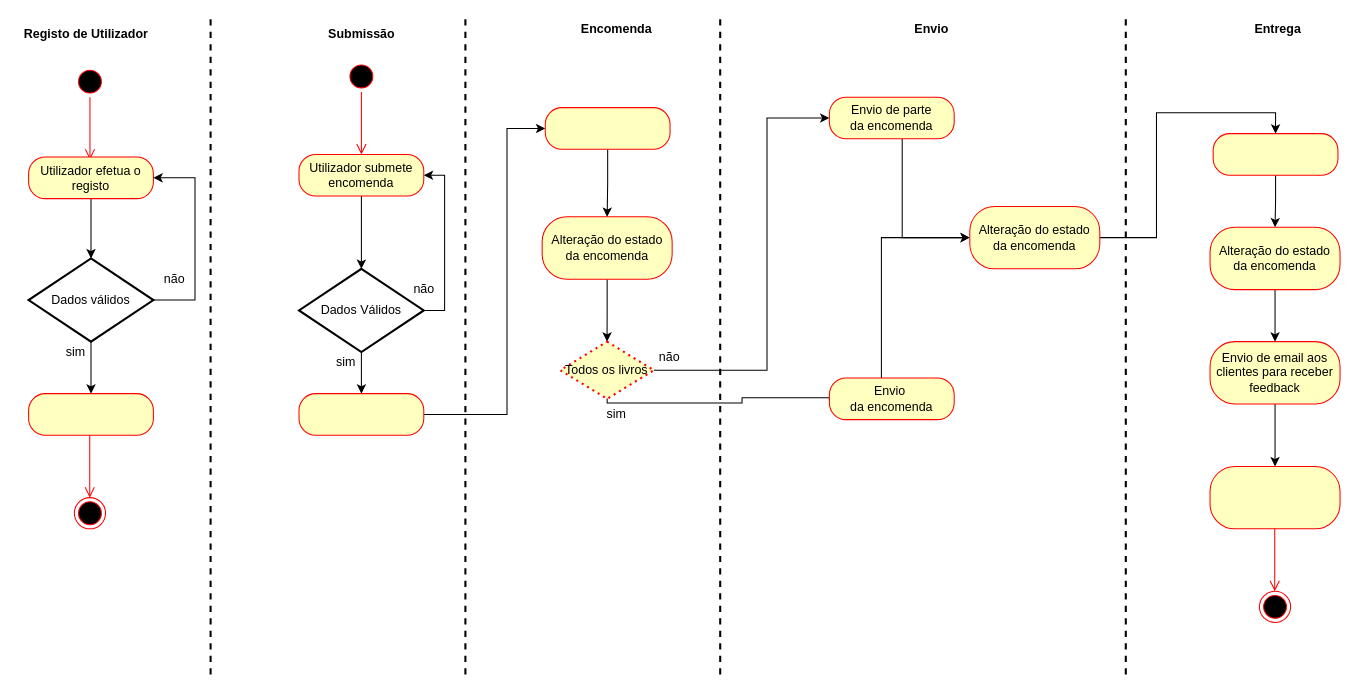
Image size: 1358x693. Some labels were removed from this diagram. The shapes that lost their labels are listed below. From the top down, each one's centre as x and y in pixels, then its label:
the point at 607,128: Processar encomenda
the point at 1275,154: Comunicação de entrega
the point at 90,414: Registo efetuado
the point at 361,414: Registo de encomenda efetuado com sucesso
the point at 1274,497: O cliente responde a um questionário para avaliar o serviço
